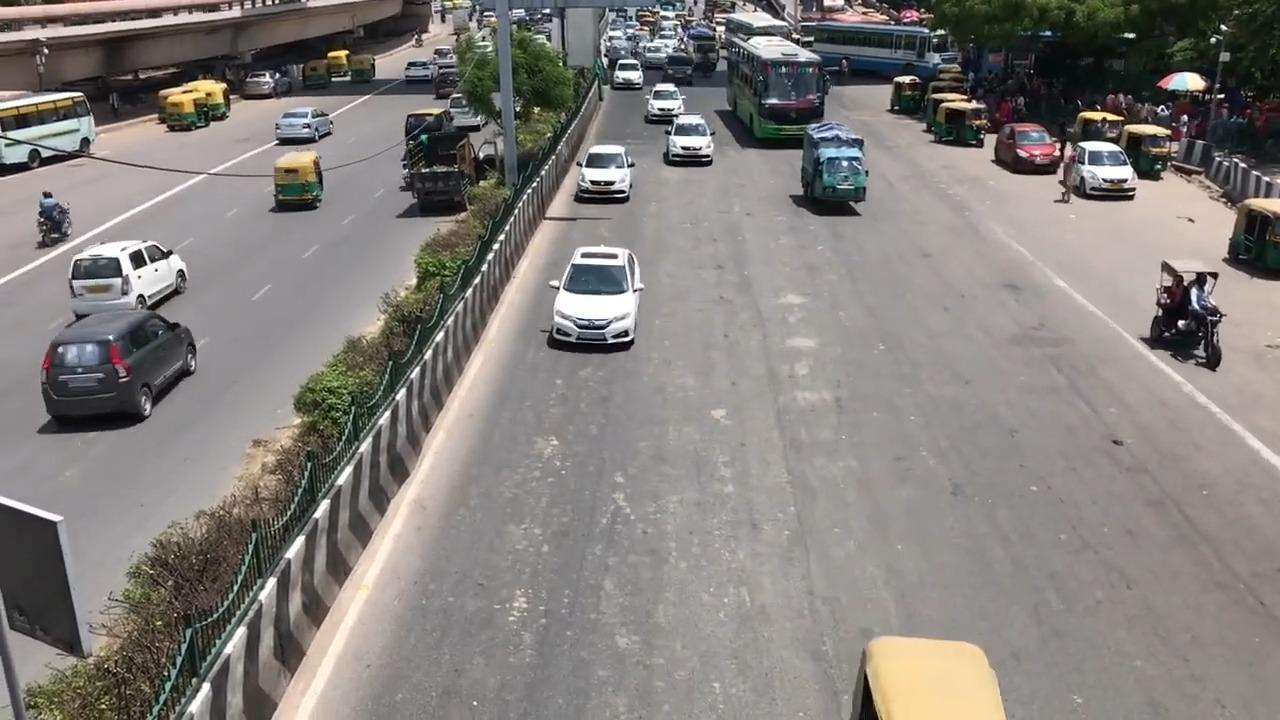Auto: (849, 634, 1007, 719), (1149, 260, 1225, 371), (1227, 196, 1279, 271), (272, 149, 323, 210), (163, 93, 212, 131)
Bike: (35, 184, 72, 247)
Bus: (725, 32, 831, 140), (804, 19, 944, 80), (0, 89, 96, 169), (723, 11, 794, 51)
Car: (39, 309, 197, 421), (547, 244, 644, 347), (67, 238, 188, 319), (1070, 140, 1138, 199), (575, 143, 635, 202), (994, 122, 1062, 173), (664, 113, 715, 164), (274, 106, 334, 143), (644, 82, 686, 123), (240, 69, 291, 99), (611, 58, 644, 89), (404, 58, 438, 82)
Truck: (399, 110, 479, 212), (800, 120, 869, 212)
